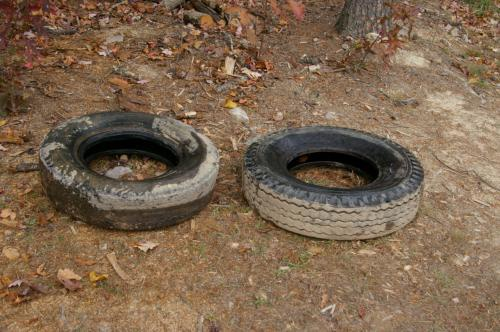tire: (39, 112, 219, 233), (242, 125, 424, 241)
